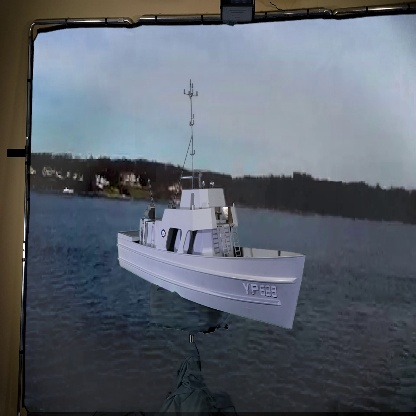YP689: (115, 75, 308, 331)
